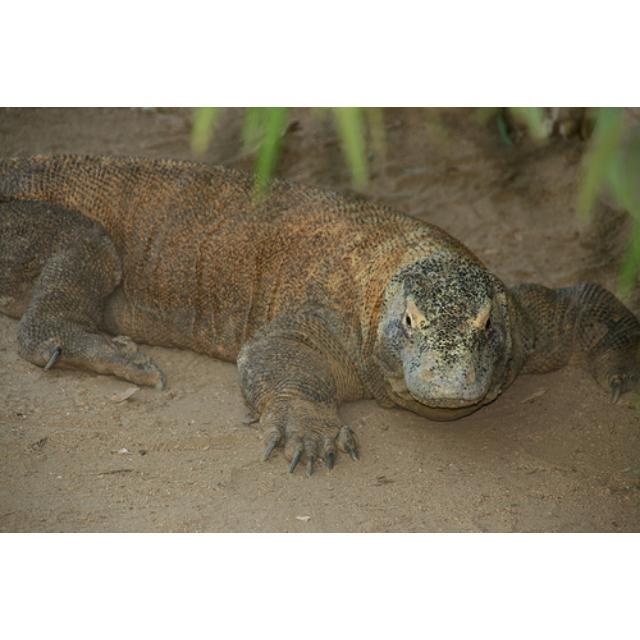KomodoDragon: (1, 151, 637, 478)
